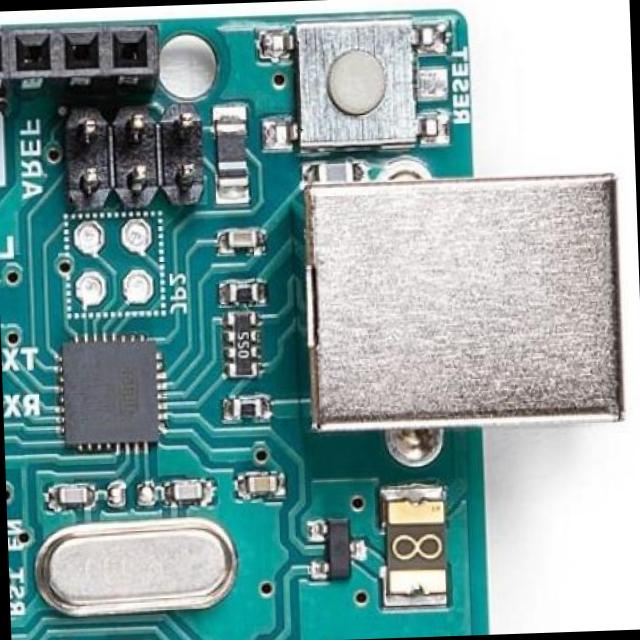IC: (52, 329, 162, 462)
capacitor: (240, 456, 286, 506), (312, 156, 359, 195), (167, 475, 210, 515), (215, 216, 262, 251), (52, 479, 89, 518)
connector: (292, 171, 640, 431), (0, 19, 158, 104), (154, 97, 214, 209), (66, 94, 111, 233), (110, 99, 154, 211)
resistor: (381, 480, 448, 606), (207, 108, 250, 186), (226, 300, 264, 376), (217, 386, 265, 432), (212, 272, 266, 310)
